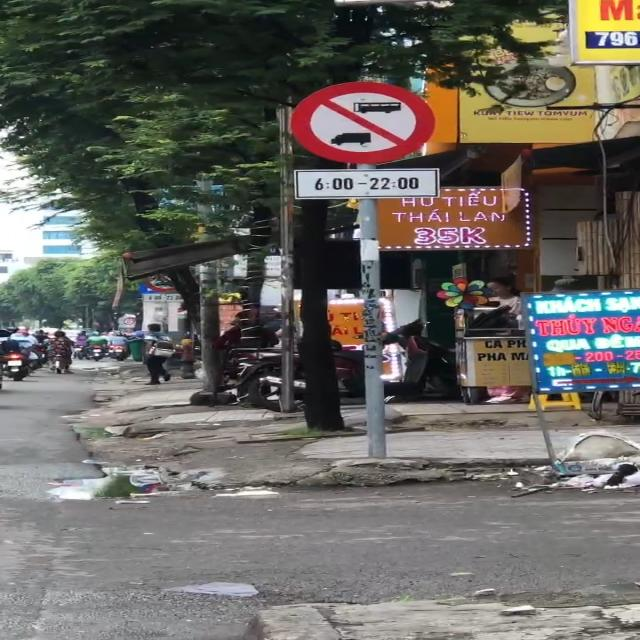Bien bao cam xe oto khach va xe oto tai: (280, 75, 442, 165)
